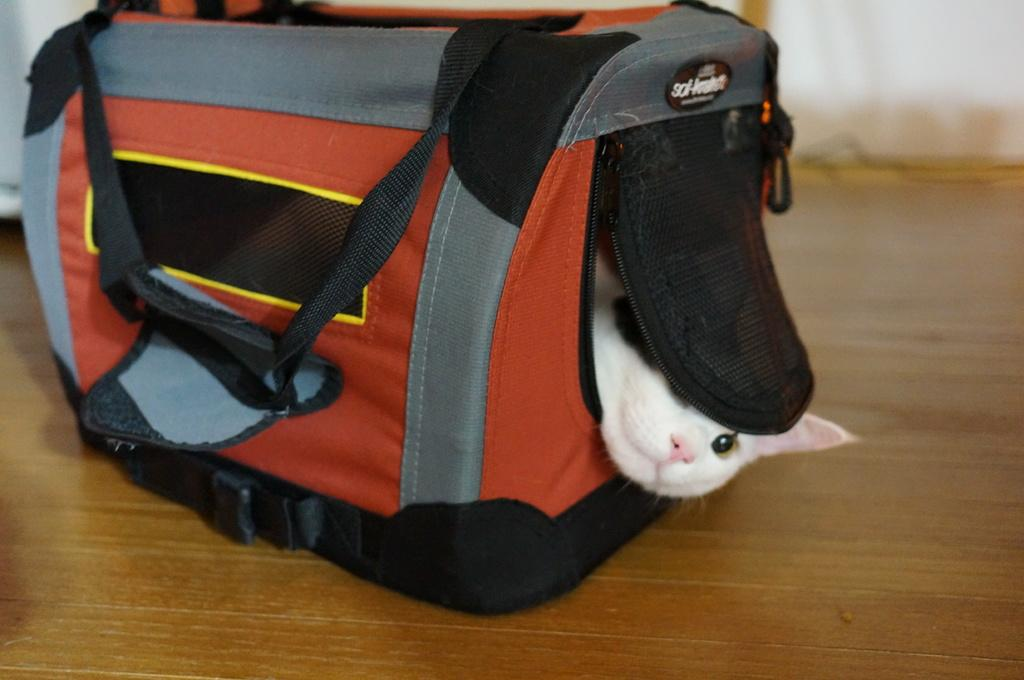Luggage-and-bags: (30, 26, 836, 628)
